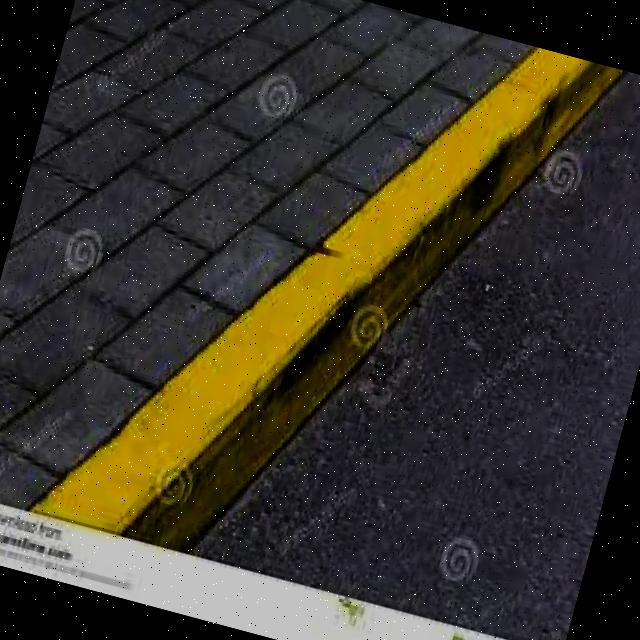curb: (35, 47, 624, 552)
